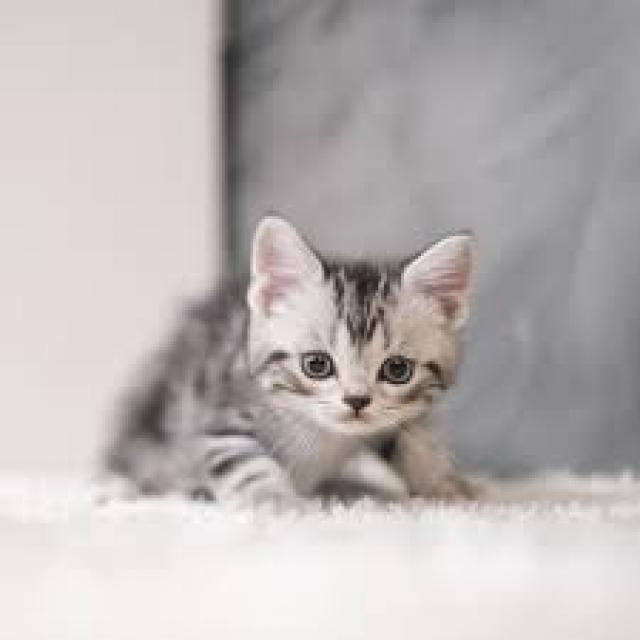cat-face: (169, 147, 568, 519)
